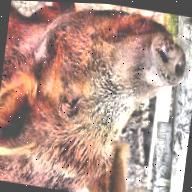boar: (0, 0, 188, 192)
